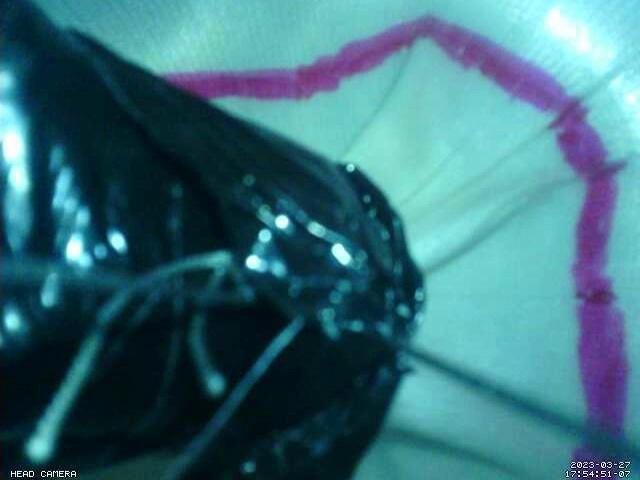red-circle: (159, 15, 632, 480)
